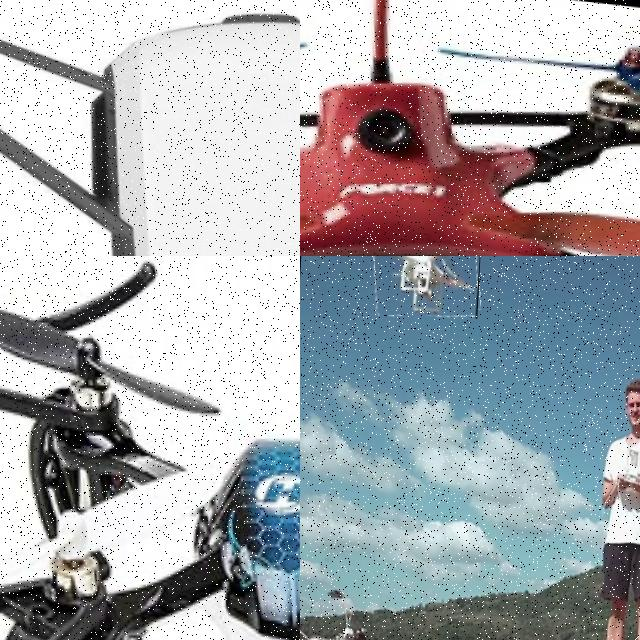drone: (0, 256, 300, 640), (300, 0, 640, 256), (0, 0, 300, 256), (369, 256, 483, 318)
